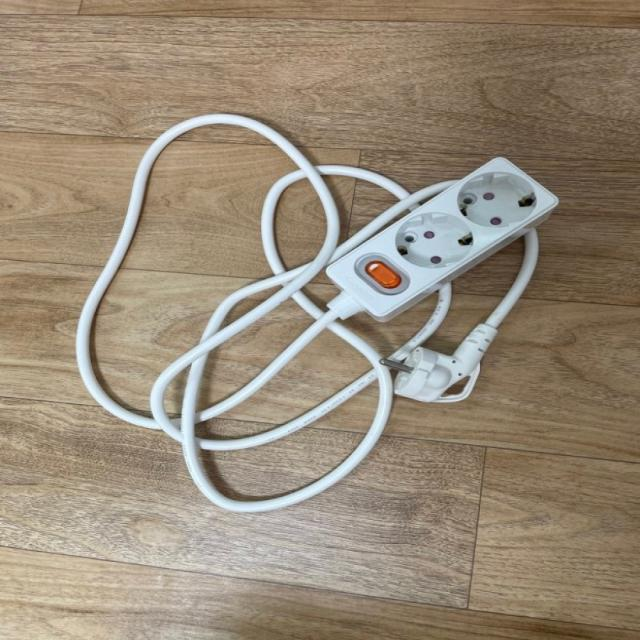typeb: (333, 132, 596, 351)
